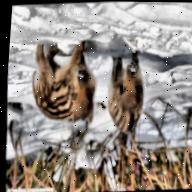boar: (36, 40, 115, 135), (95, 52, 166, 144)
